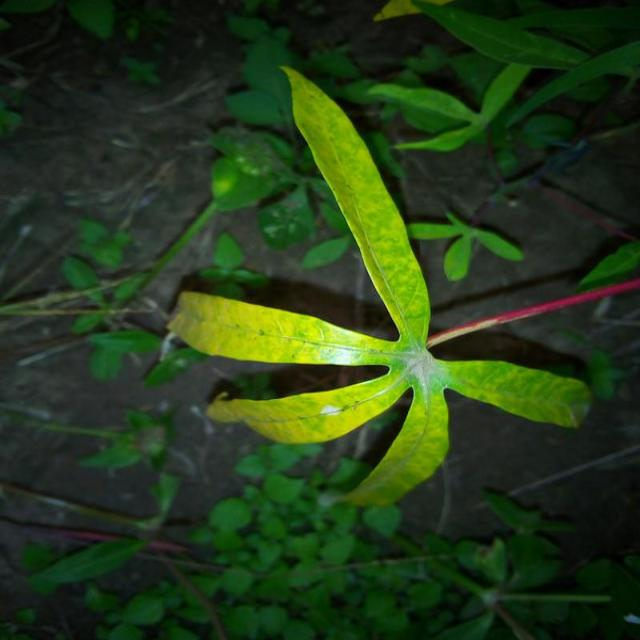cassava leaf: (165, 62, 598, 509), (277, 63, 431, 347)
